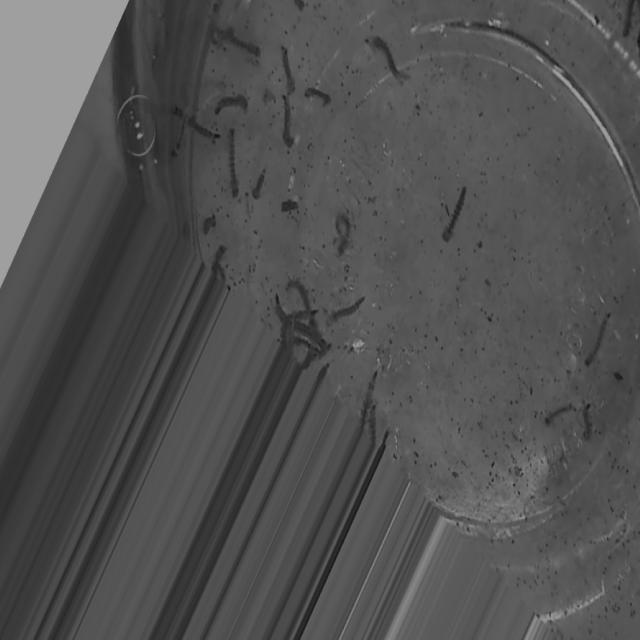larvas: (273, 294, 328, 352), (372, 35, 408, 86), (172, 104, 218, 143), (281, 322, 314, 374), (354, 367, 381, 427), (583, 308, 610, 362), (443, 187, 468, 241), (225, 27, 262, 57), (331, 294, 366, 322), (287, 275, 313, 312), (228, 128, 240, 198), (282, 93, 295, 147), (211, 245, 228, 284), (282, 45, 296, 92), (335, 211, 351, 252), (546, 402, 570, 426), (216, 96, 247, 114), (622, 0, 634, 42), (308, 84, 330, 106), (252, 170, 268, 198), (582, 402, 592, 439), (371, 404, 378, 444), (320, 362, 328, 387)
